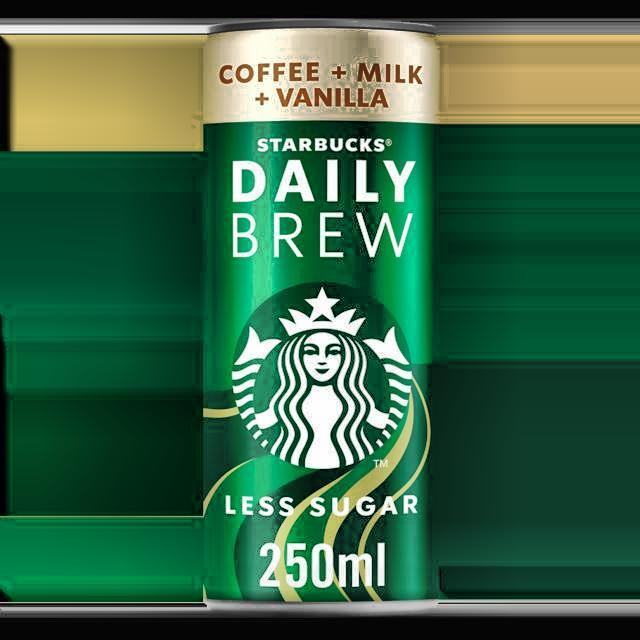metal: (200, 30, 442, 602)
